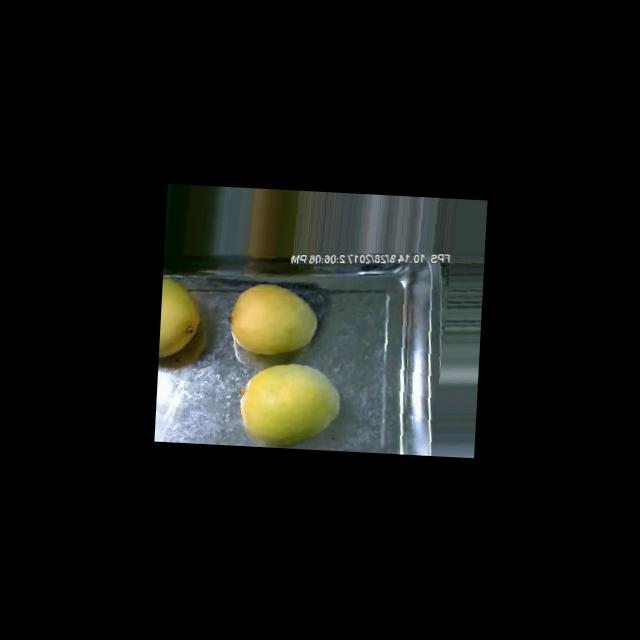Mango: (236, 359, 340, 449), (227, 280, 318, 356), (158, 274, 201, 359)
